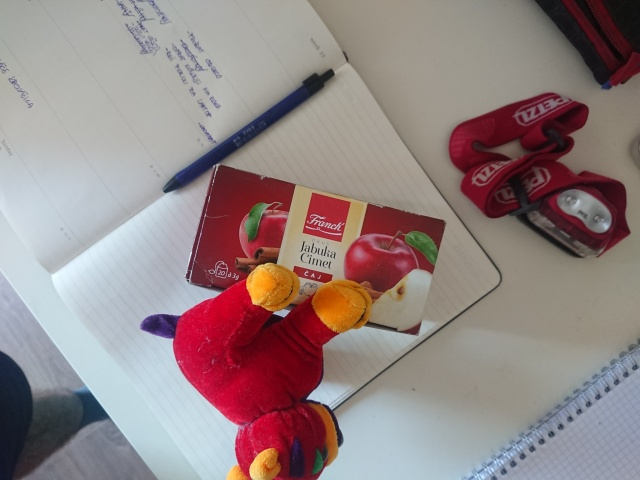Franck Apple Cinnamon Tea 60g: (183, 161, 447, 338)
